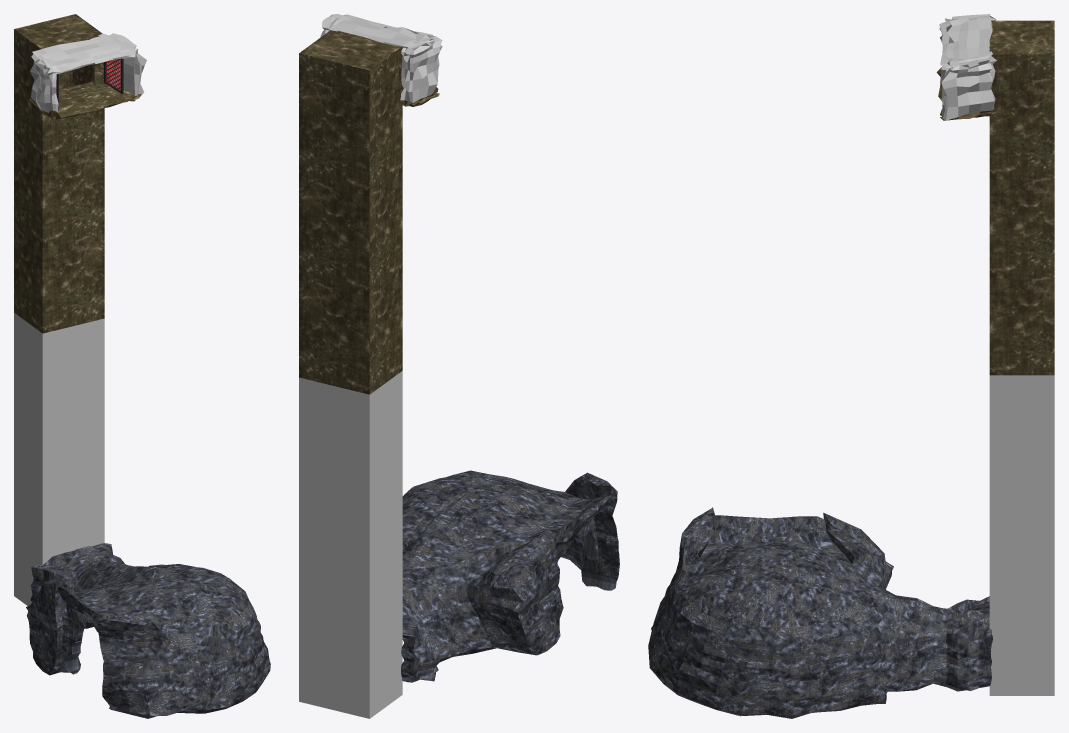
Rendered from puerta.fbx.
3 renders of one model, left to right at view 1: azimuth 30°, elevation 25°; view 2: azimuth 150°, elevation 25°; view 3: azimuth 270°, elevation 25°, orthographic. The views are drawn at different scales.
Parts seen in each view (by area): view 1: tunel, cuevadown, Cube, puertas.002; view 2: tunel, cuevadown, Cube; view 3: cuevadown, tunel, Cube.
Part boxes in pixels (x1,y1,x2,y2): tunel: (14,14,104,605); cuevadown: (26,543,270,718); Cube: (29,33,146,120); puertas.002: (104,58,123,94); tunel: (299,30,402,718); cuevadown: (401,470,619,682); Cube: (320,14,442,106); cuevadown: (648,507,992,718); tunel: (989,20,1054,695); Cube: (936,14,996,120).
Size of the model in its own units: 2713 by 8114 by 4654.
